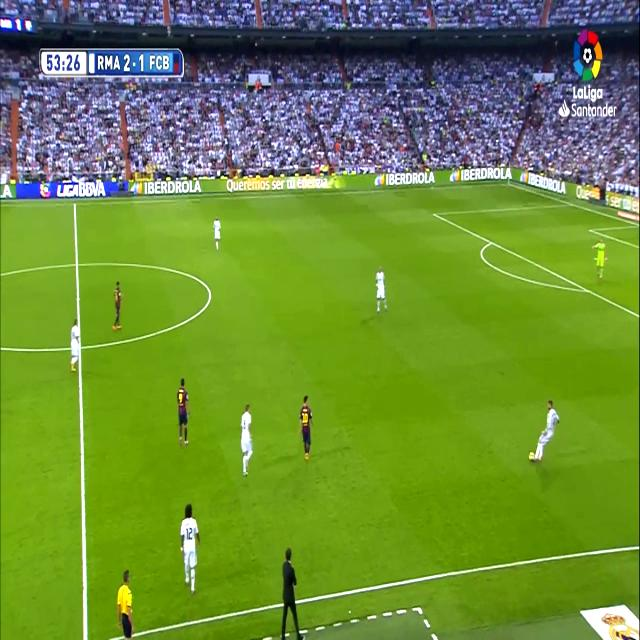corner: (504, 179, 512, 189)
halfcircle_bottom: (74, 338, 86, 359)
halfcircle_top: (72, 254, 82, 274)
midline_top_intersection: (72, 198, 78, 210)
top_arc_area_intersection: (487, 234, 495, 248)
